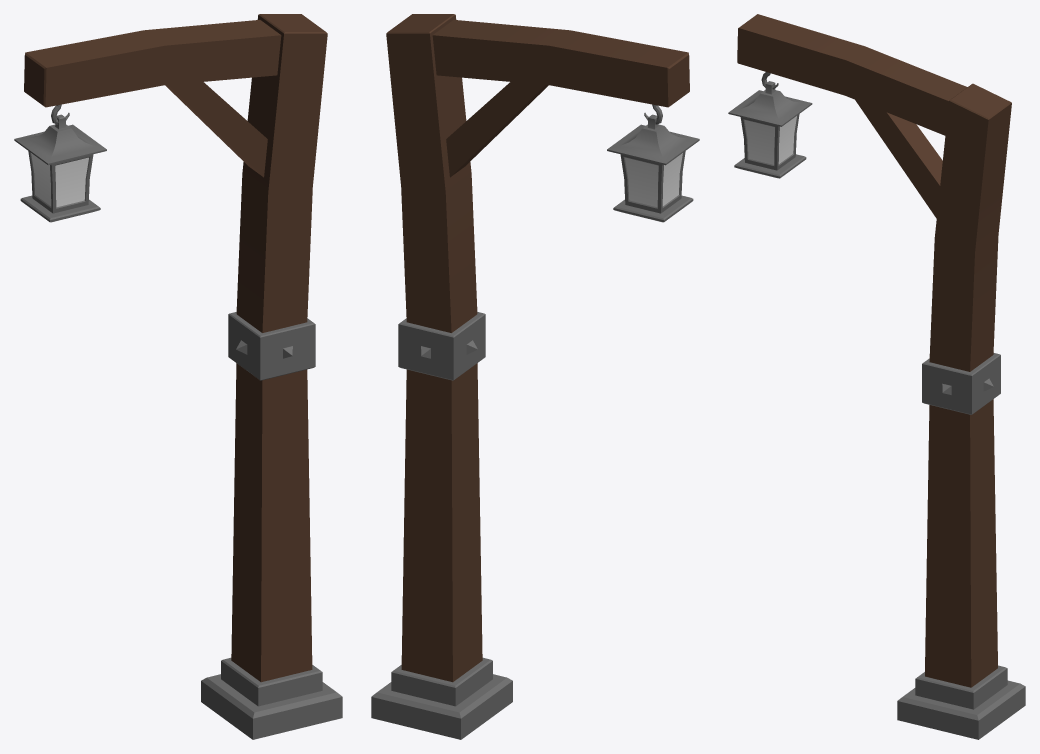
The model's file is LampPost.fbx.
3 views of the same model, side by side, from view 1: azimuth 30°, elevation 25°; view 2: azimuth 150°, elevation 25°; view 3: azimuth 330°, elevation 25° (orthographic). The views are drawn at different scales.
Visible parts, largest first — view 1: Pole; view 2: Pole; view 3: Pole.
Part boxes in pixels (left/top/right/bottom): Pole: left=14, top=14, right=342, bottom=739; Pole: left=371, top=14, right=699, bottom=739; Pole: left=728, top=14, right=1025, bottom=739.
Bounding box in the file's own units: 499 × 1181 × 157.
